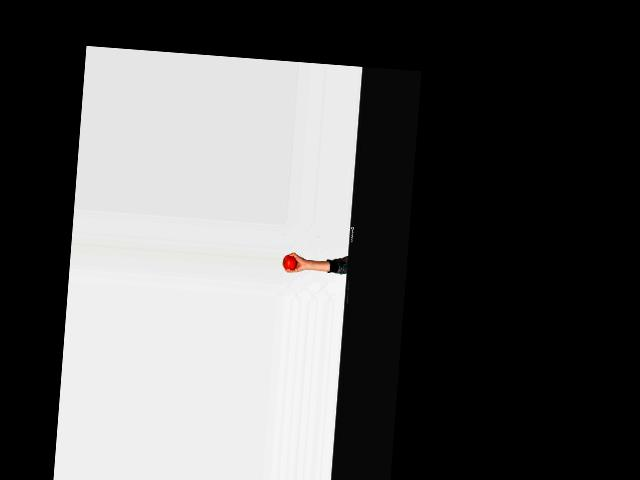tomato: (282, 254, 297, 270)
